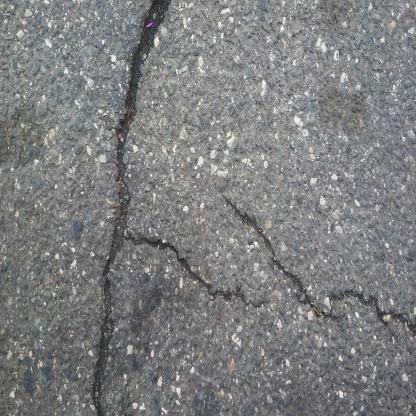Cracks: (87, 0, 175, 416), (223, 189, 416, 339), (123, 219, 266, 318)
